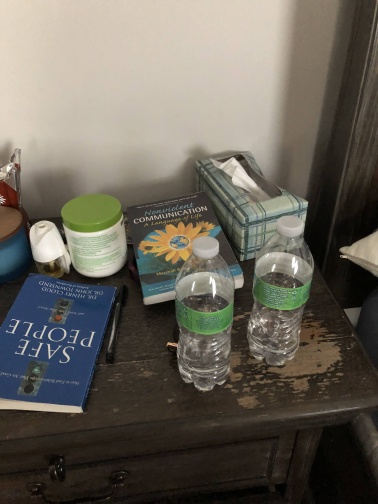bottle: (243, 212, 316, 369), (170, 233, 237, 393)
